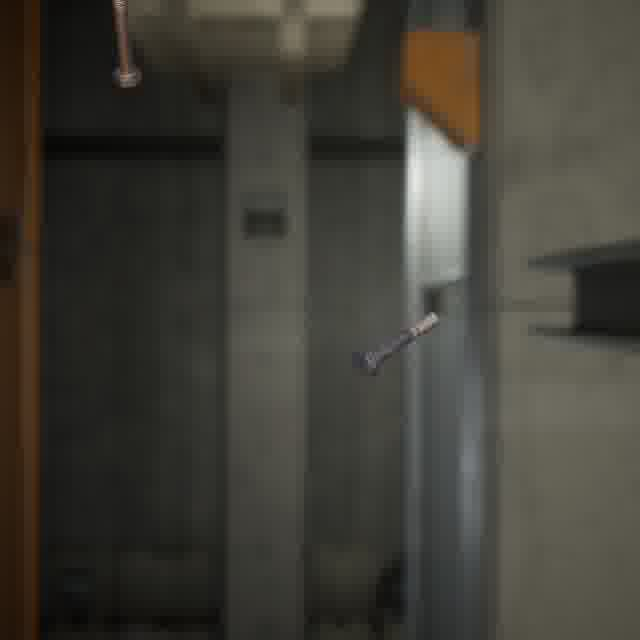bolt: (347, 307, 443, 382), (107, 0, 145, 91)
